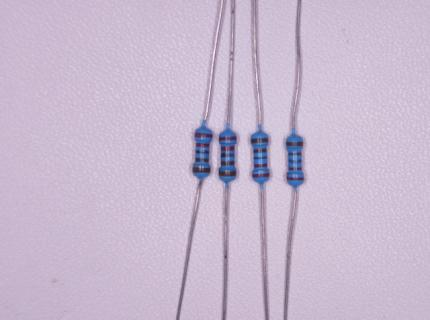Black band: (221, 152, 235, 158), (288, 159, 302, 164), (195, 149, 209, 154), (253, 156, 267, 160)
Brown band: (192, 167, 211, 173), (219, 170, 237, 176), (251, 138, 269, 143), (221, 160, 235, 166), (253, 148, 267, 154), (286, 142, 304, 146), (195, 158, 209, 163), (288, 152, 302, 156)
Red band: (195, 132, 212, 138), (219, 136, 237, 141), (253, 173, 270, 178), (195, 143, 209, 148), (287, 177, 304, 181), (221, 146, 234, 151), (254, 163, 267, 168), (289, 167, 302, 171)
